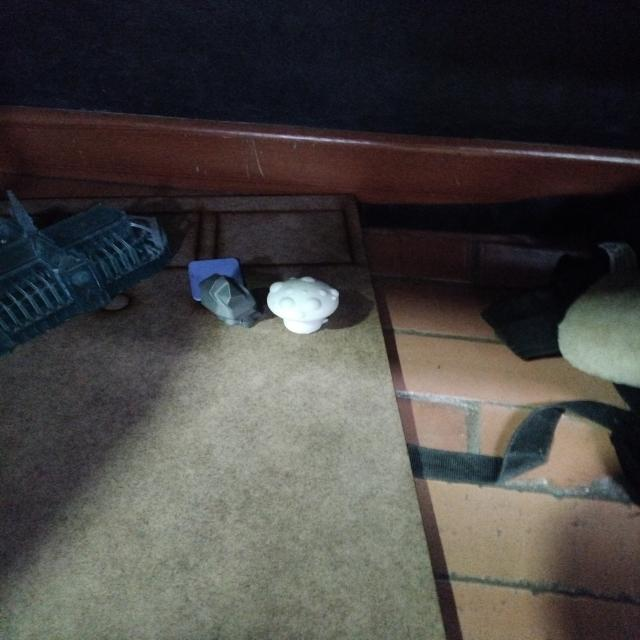Hongo: (258, 270, 348, 340)
